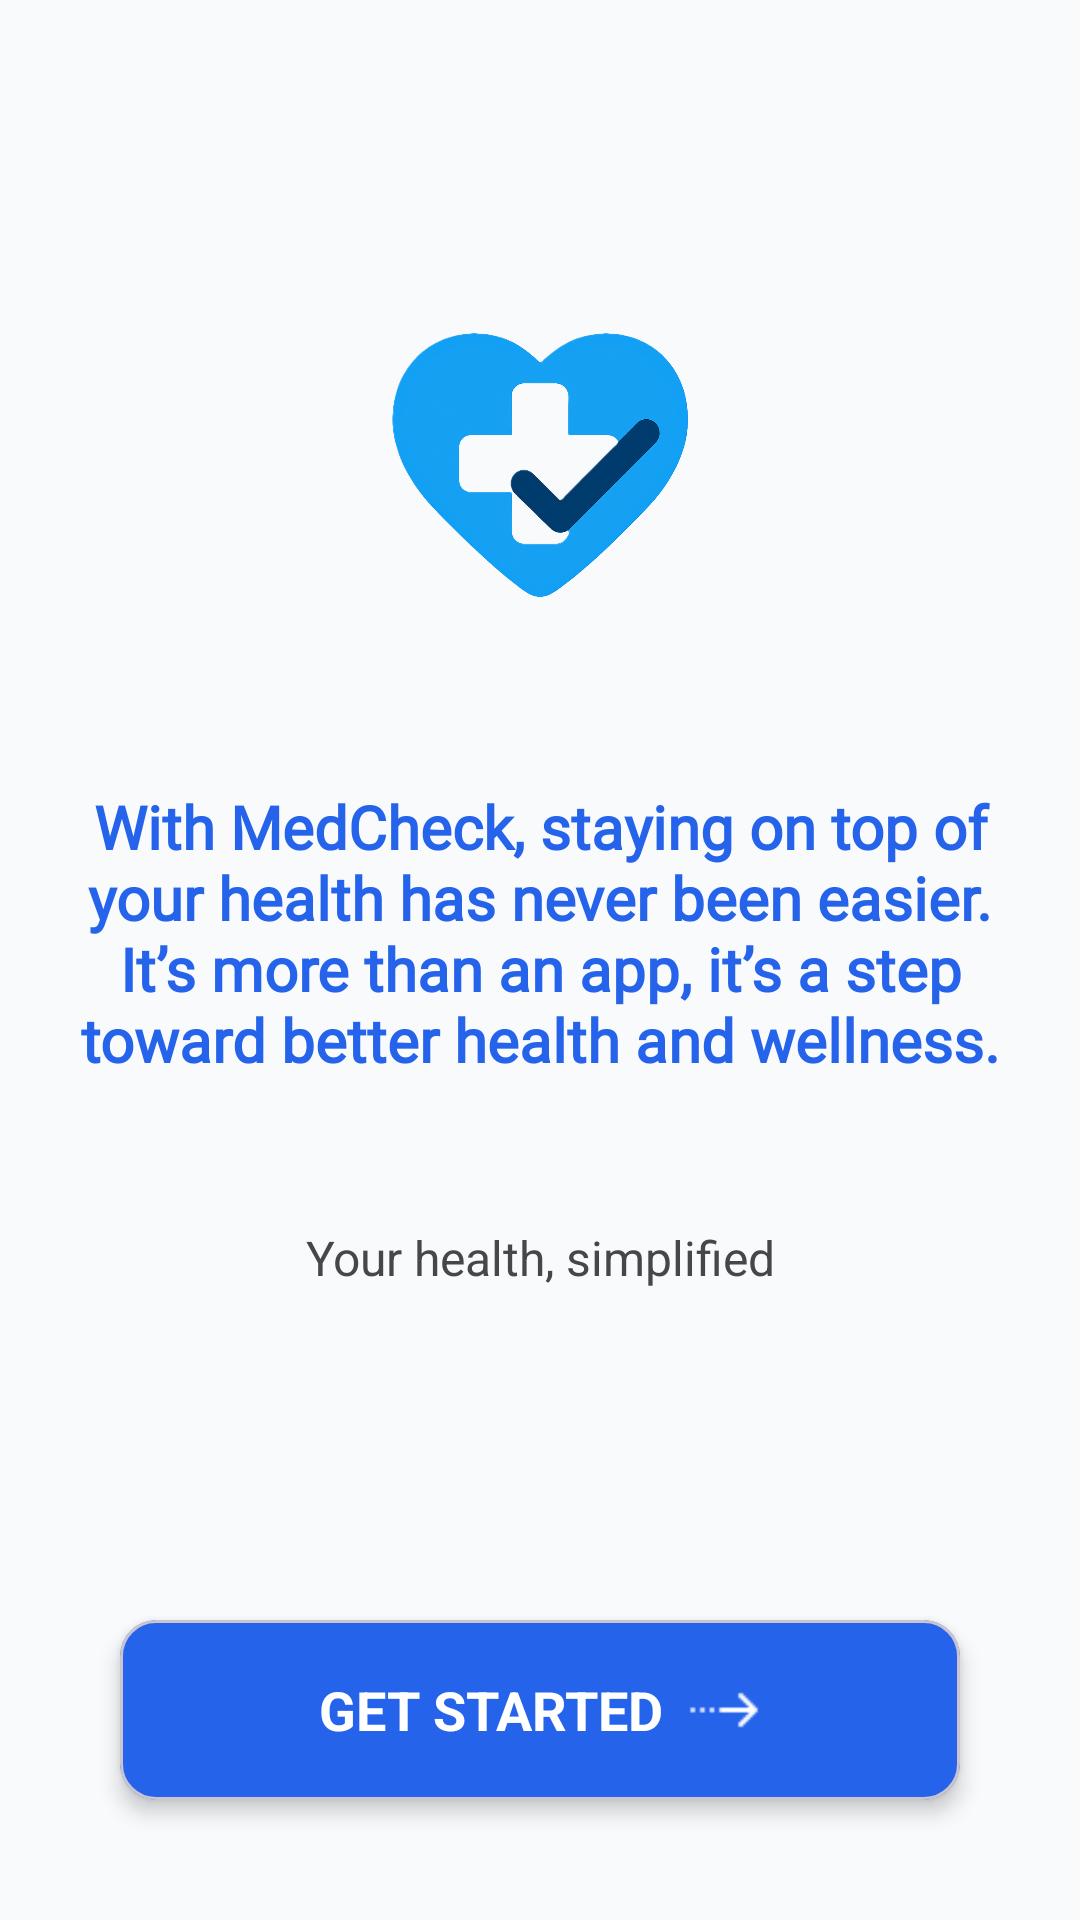

Icons on this 1080 x 1920 Android screen, each with the point to tap as (x=x, y=y):
advance: (x=724, y=1710)
